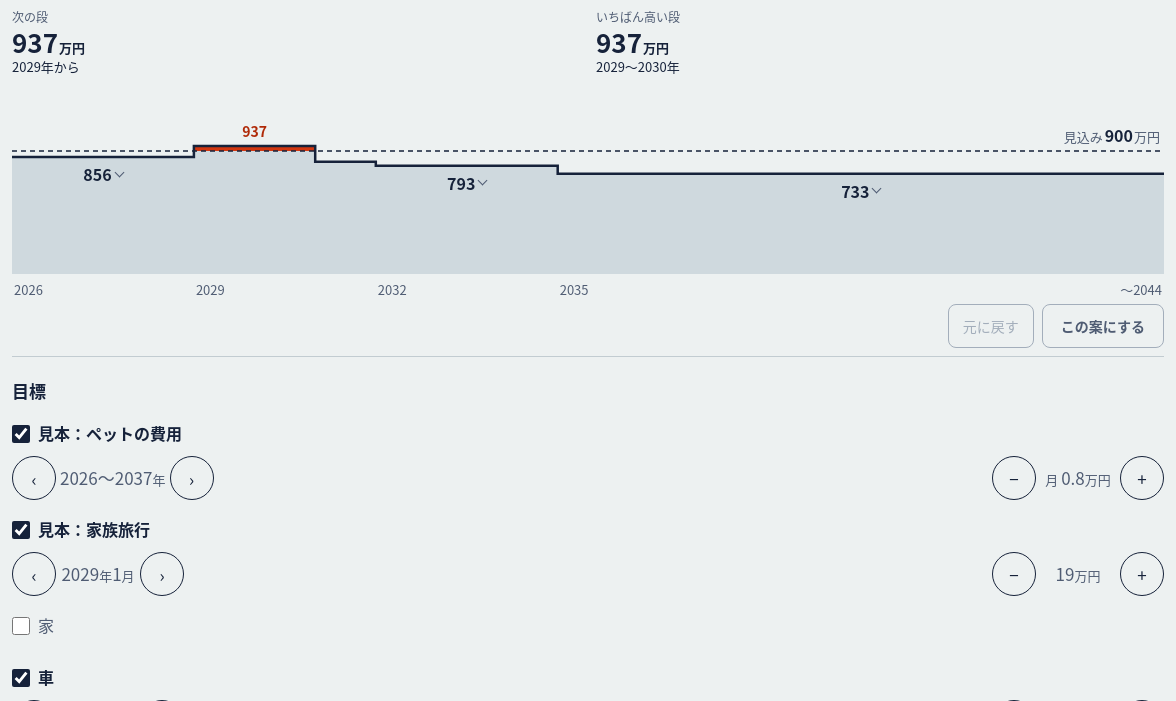
it: 見直す（T12） › それでも計算できない案になったら（オフにしてあった契約違反のカードをオンにする）、図の場所に理由を出し、「この案にする」を止める
This screenshot has width=1176, height=701.
Expected: the element named "階段" is shown, [12,118,1164,298]
Click the checkbox labelled "家": x=21, y=626 [12,617,30,635]
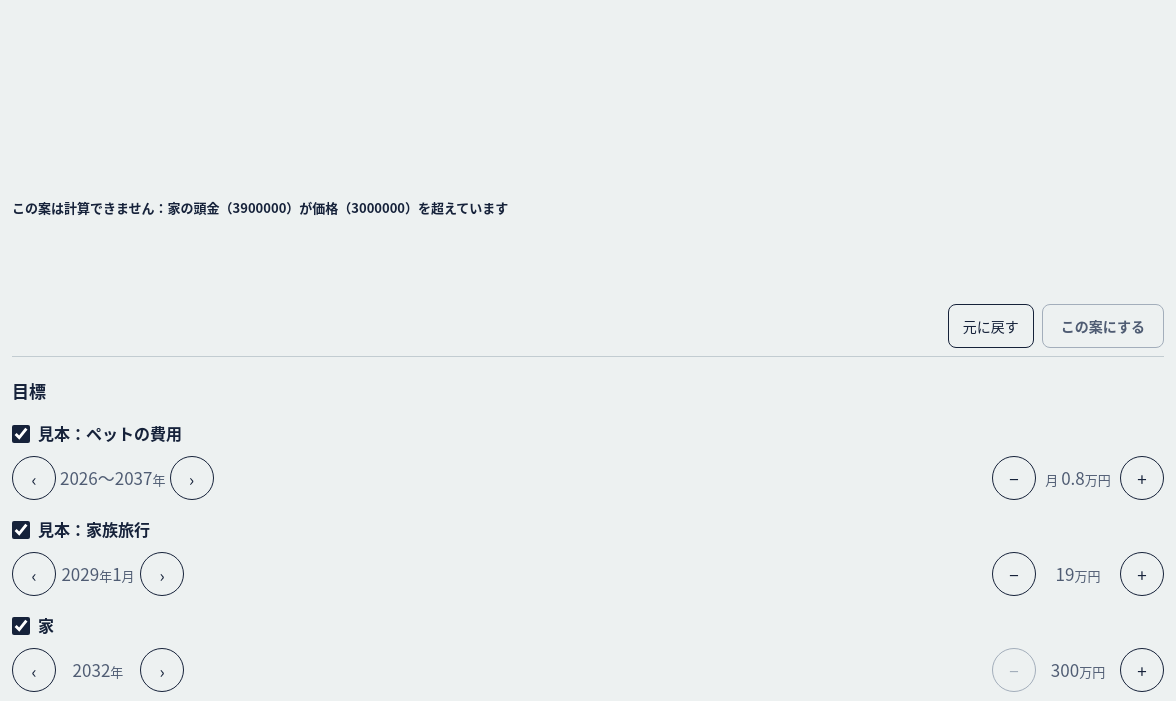
Expected: the button "この案にする" is disabled, [1042,304,1164,348]
Expected: the message shows "この案は計算できません", [12,198,508,217]
Expected: the element "階段" is gone
Note: 動かす欄と「元に戻す」はそのまま使え、戻すと階段が戻る
Click the button "元に戻す": x=991, y=326 [948,304,1034,348]
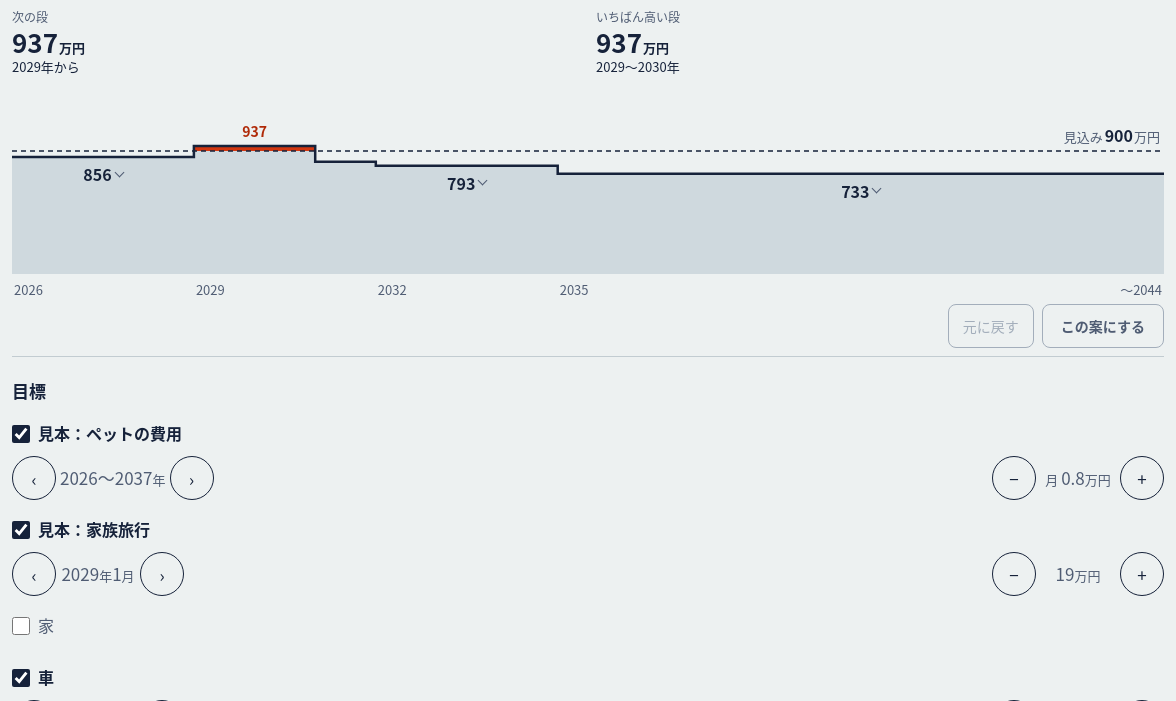
Expected: the element named "階段" is shown, [12,118,1164,298]
